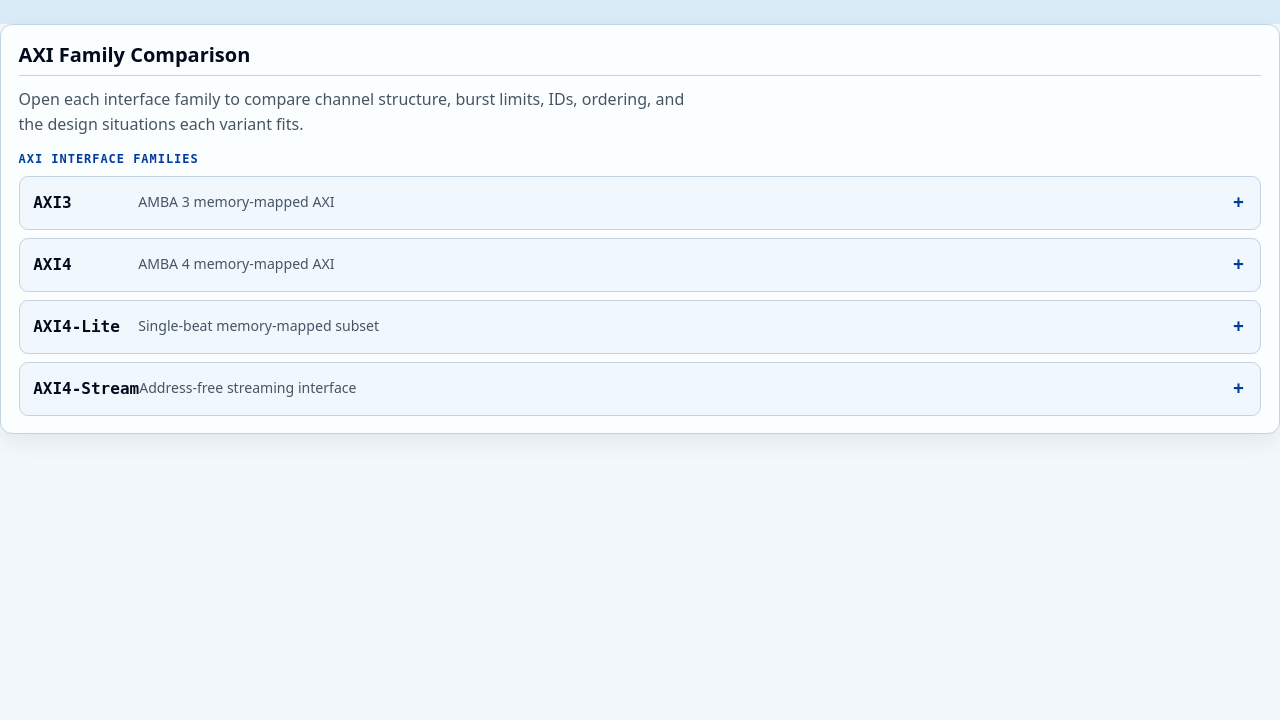
Test: production visual rendering › reveals the AXI4-Lite outstanding-transaction nuance
This screenshot has width=1280, height=720.
Expected: the heading "AXI Family Comparison" is shown, [19,43,1261,76]
Click the button "AXI4-Lite Single-beat memory-mapped subset +": (77, 326) [20,301,1260,353]
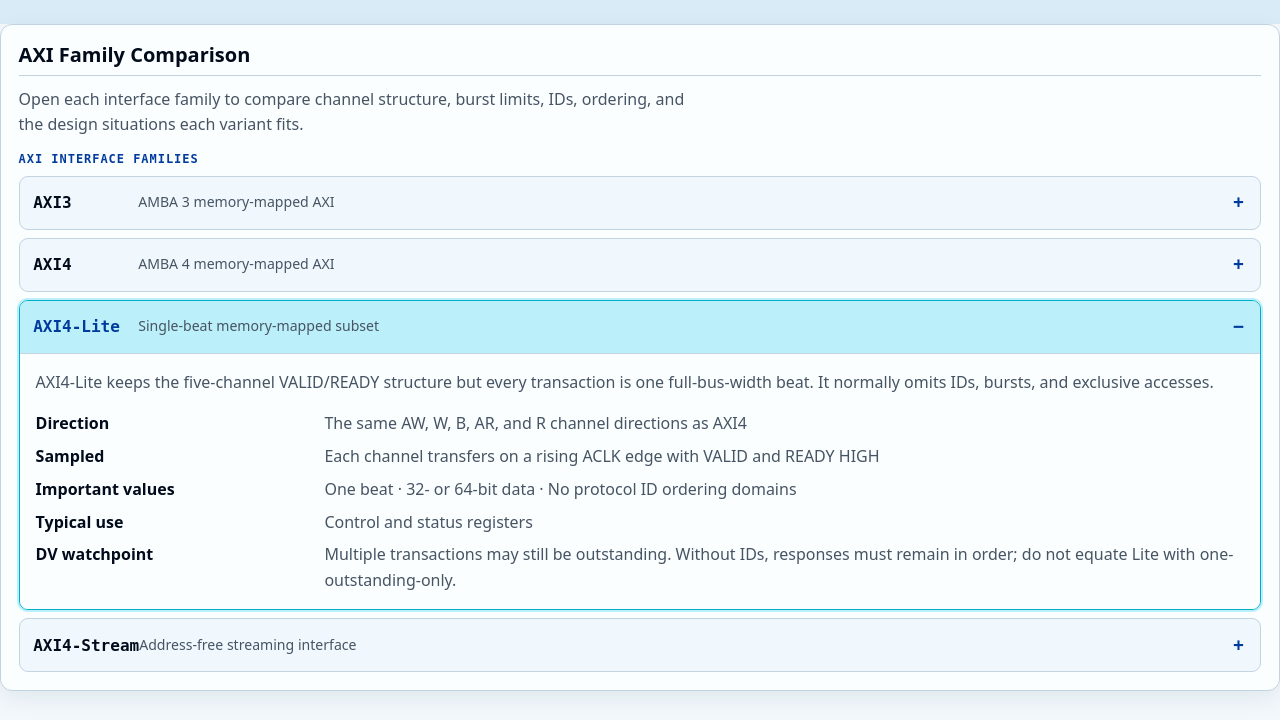
Result: the text "Multiple transactions may still be outstanding" is shown at [324,543,1233,591]
